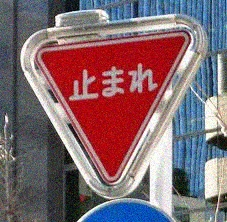Regulatory_sign_triangle: (27, 20, 212, 199)
